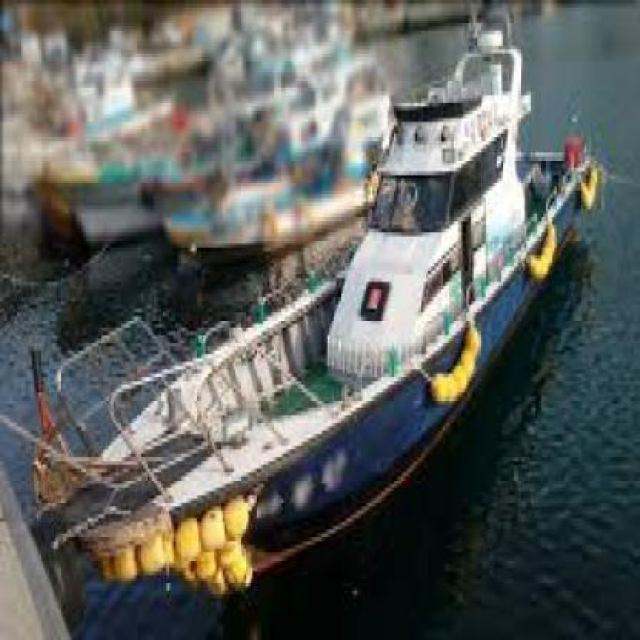fish-b: (1, 35, 623, 615)
